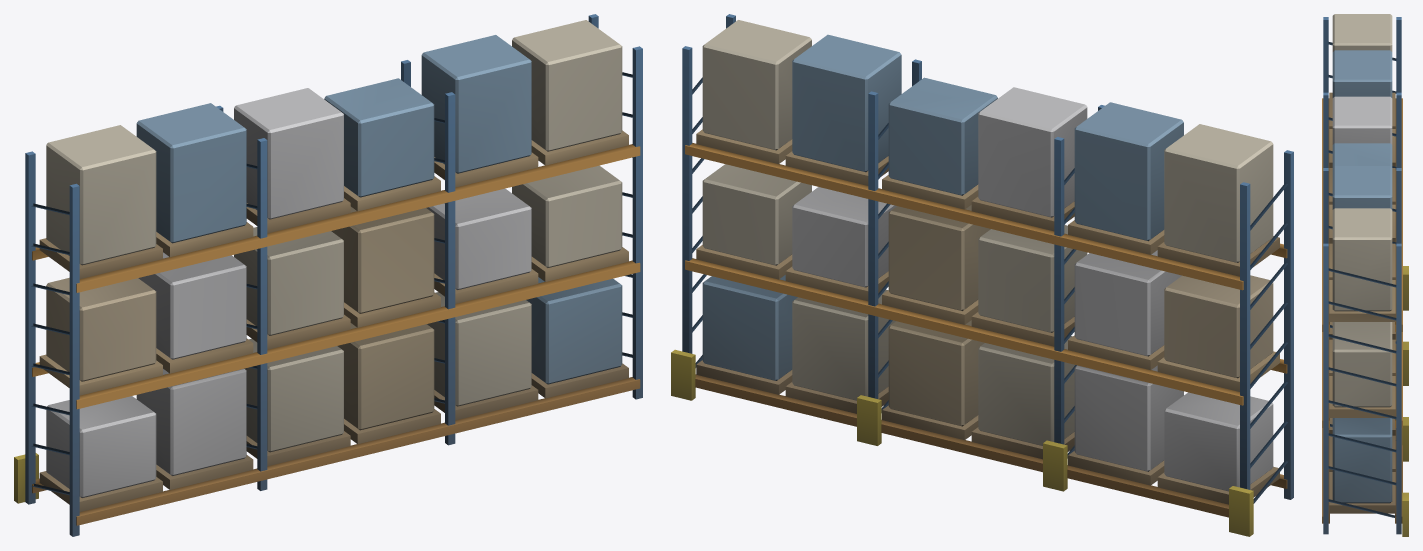
Rendered from rack.glb.
3 renders of one model, left to right at view 1: azimuth 30°, elevation 25°; view 2: azimuth 150°, elevation 25°; view 3: azimuth 270°, elevation 25°, orthographic. The views are drawn at different scales.
Visible parts, largest first — view 1: rack; view 2: rack; view 3: rack.
Part boxes in pixels (bbox=[...]): rack: bbox=[14, 14, 642, 536]; rack: bbox=[671, 14, 1293, 536]; rack: bbox=[1322, 14, 1408, 536].
Size of the model in its own units: 8.4 by 4.96 by 1.31.
